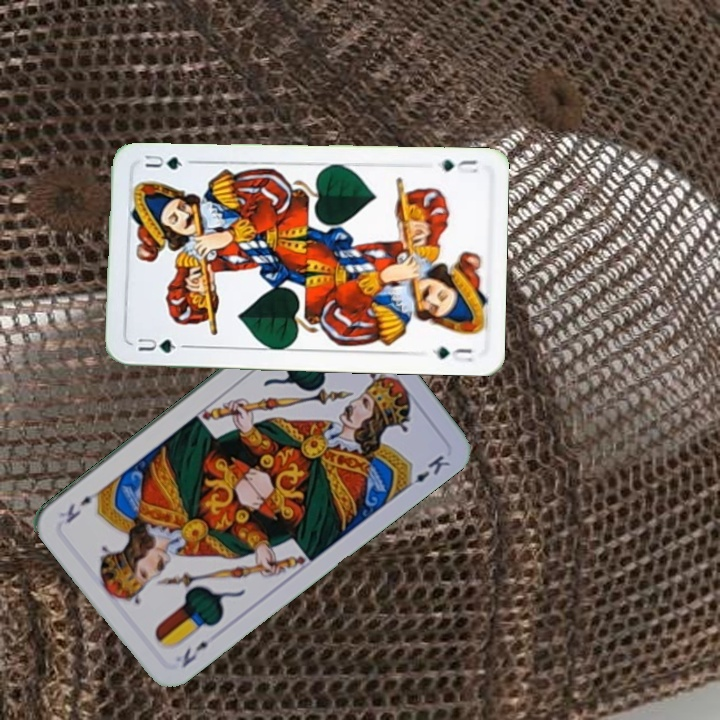EK: (177, 631, 221, 671)
GU: (134, 334, 189, 356), (433, 156, 481, 176)
